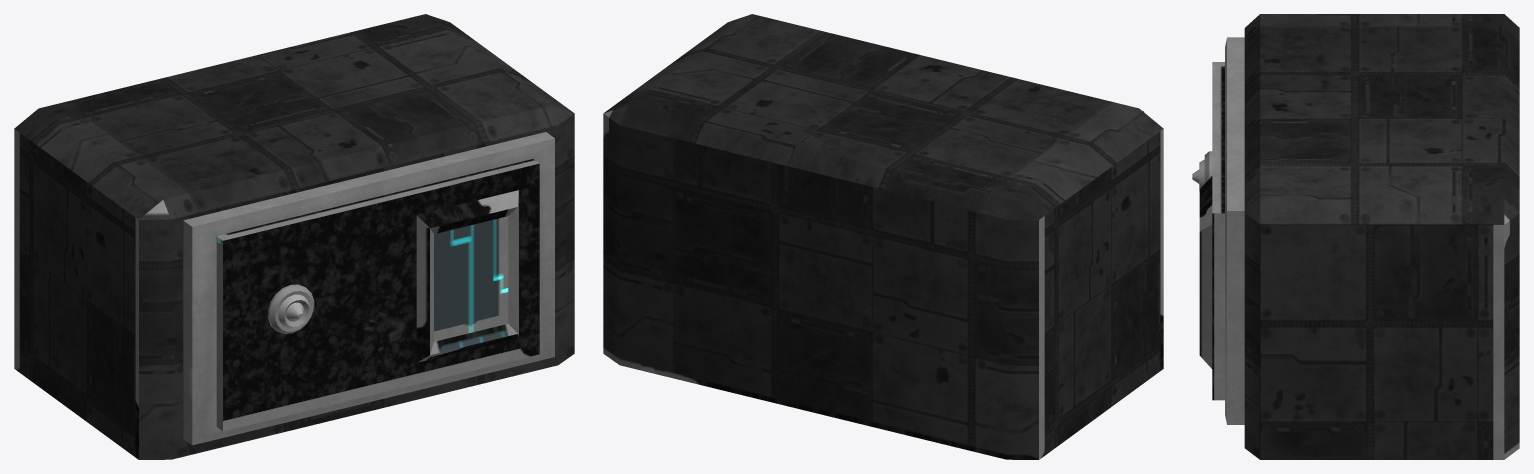
Rendered from cofre_digital.fbx.
3 renders of one model, left to right at view 1: azimuth 30°, elevation 25°; view 2: azimuth 150°, elevation 25°; view 3: azimuth 270°, elevation 25°, orthographic. The views are drawn at different scales.
Visible parts, largest first — view 1: cofre_digital, cofre_tampa, cofre_porta, cofre_tela, cofre_dial; view 2: cofre_digital; view 3: cofre_digital, cofre_porta, cofre_tampa, cofre_dial.
Part boxes in pixels (x1,y1,x2,y2): cofre_digital: (14, 14, 574, 459); cofre_tampa: (216, 159, 539, 431); cofre_porta: (183, 132, 554, 445); cofre_tela: (434, 216, 508, 341); cofre_dial: (268, 284, 314, 333); cofre_digital: (603, 14, 1163, 459); cofre_digital: (1244, 14, 1519, 459); cofre_porta: (1225, 37, 1244, 424); cofre_tampa: (1199, 62, 1224, 400); cofre_dial: (1192, 151, 1212, 190).
Bounding box in the file's own units: 50.02 × 27.89 × 33.23.
Materials: 1 (1 with a texture image).
